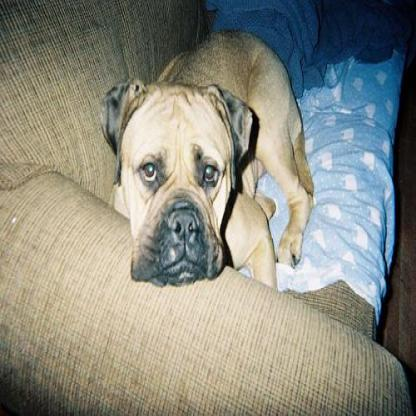bull_mastiff: (99, 21, 315, 289)
